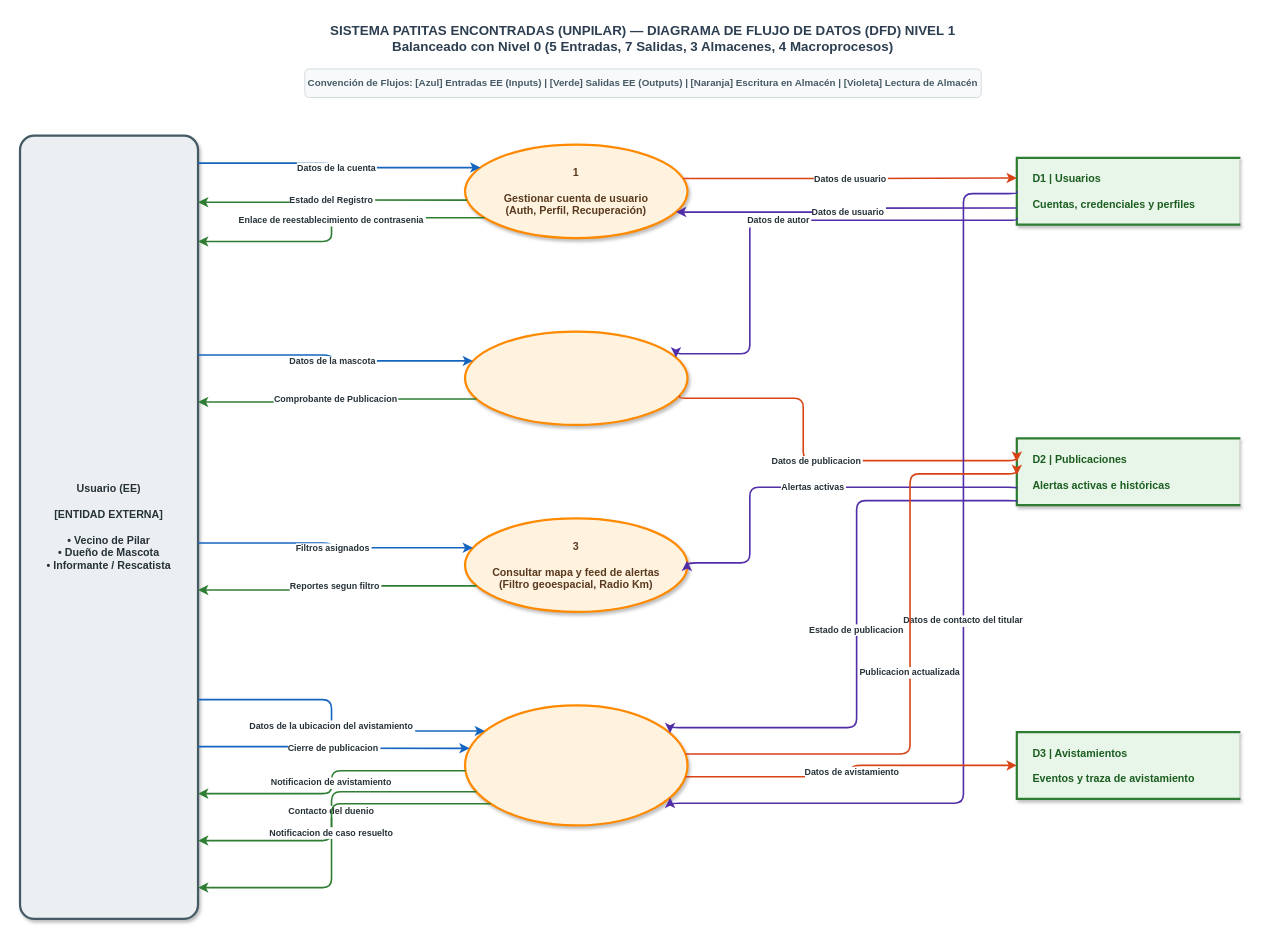
This 1261x942 diagram has some shape labels left out. Each missing label, with the centre of its shape:
"2 Publicar reporte de mascota (Validación, GPS, Fotos)" belongs at (577,379).
"4 Gestionar avistamiento y cierre (Avistamientos, WhatsApp, Cierre)" belongs at (577,766).
